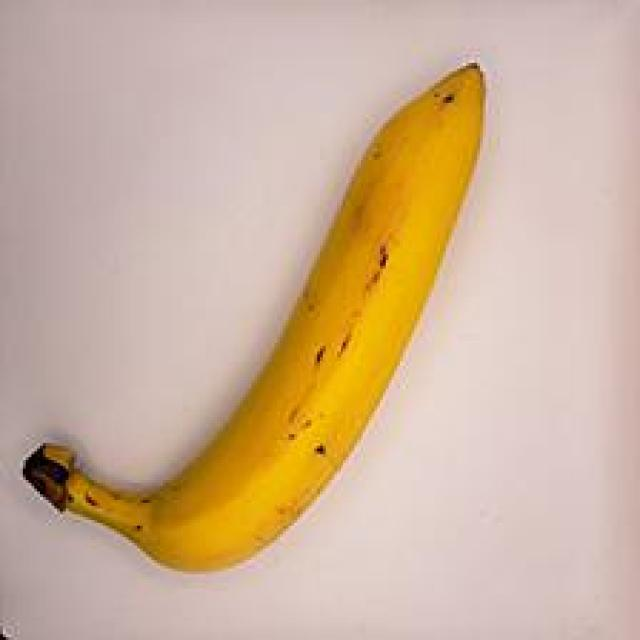Ripe: (9, 39, 532, 600)
